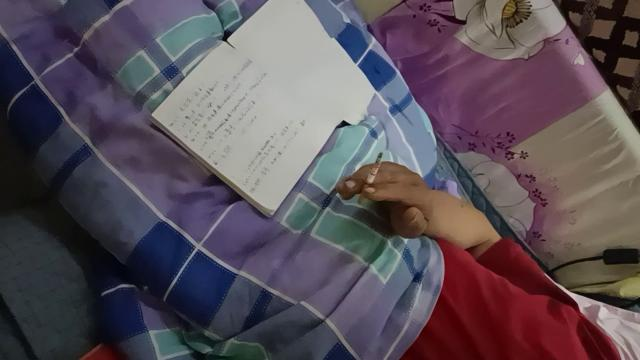Cigarette: (357, 152, 383, 206)
